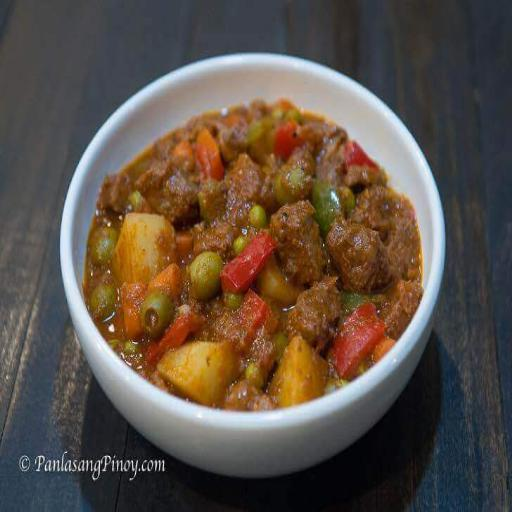pork caldereta: (84, 78, 404, 408)
